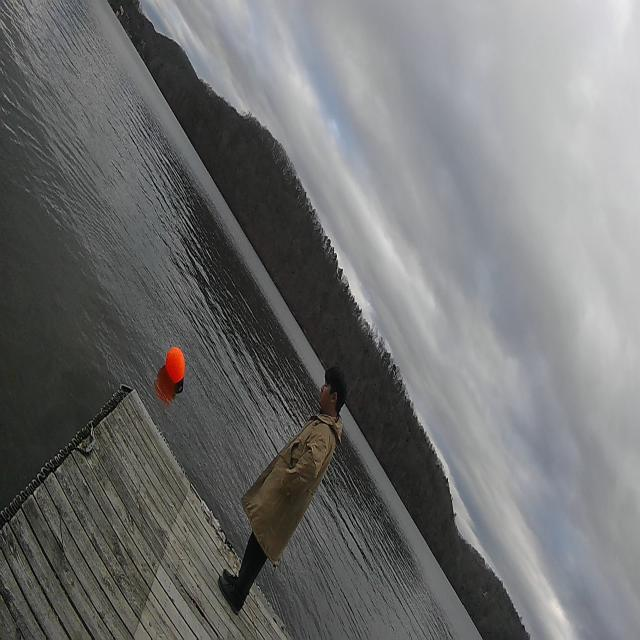Buoy: (163, 344, 187, 387)
